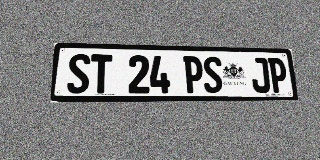2: (129, 55, 149, 93)
4: (150, 55, 170, 93)
J: (250, 57, 271, 93)
P: (183, 56, 204, 93), (268, 58, 288, 93)
S: (67, 54, 90, 94), (203, 56, 223, 93)
T: (90, 54, 112, 93)
